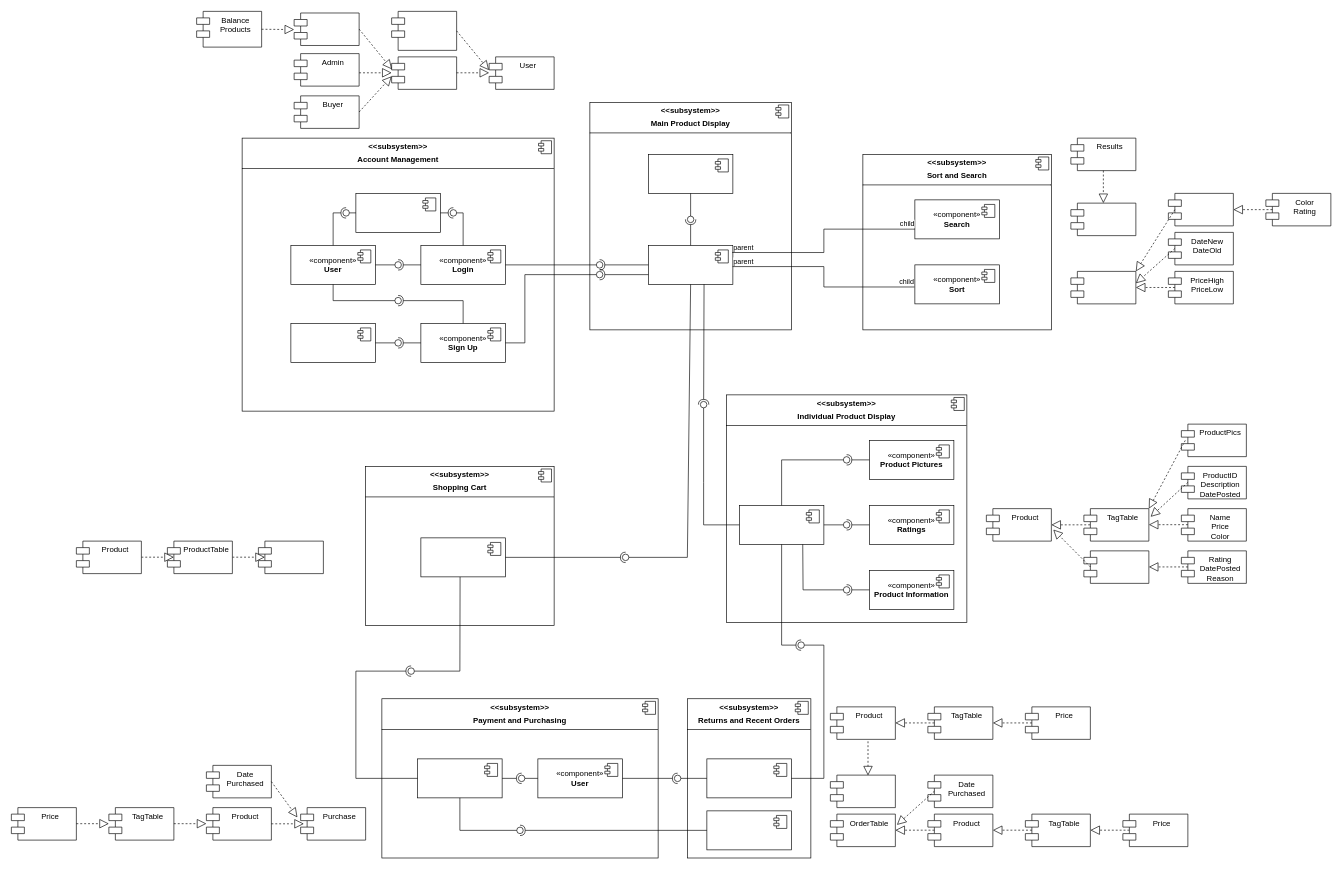
This 1342x870 diagram has some shape labels left out. Each missing label, with the centre of its shape:
Filters: (1200,209)
RatingsTable: (1116,566)
Return: (862,791)
Search: (1103,219)
Seller: (326,29)
Shopping Cart: (290,557)
Sort: (1103,287)
User ID Username Password: (424,30)
User Type: (424,72)
«component» Admin: (332,342)
«component» Product: (781,524)
«component» Product Display: (690,264)
«component» Purchase: (459,778)
«component» Recent Orders: (748,830)
«component» Return: (748,778)
«component» Seller: (690,173)
«component» Shopping Cart: (462,557)
«component» Sign Out: (397,212)
